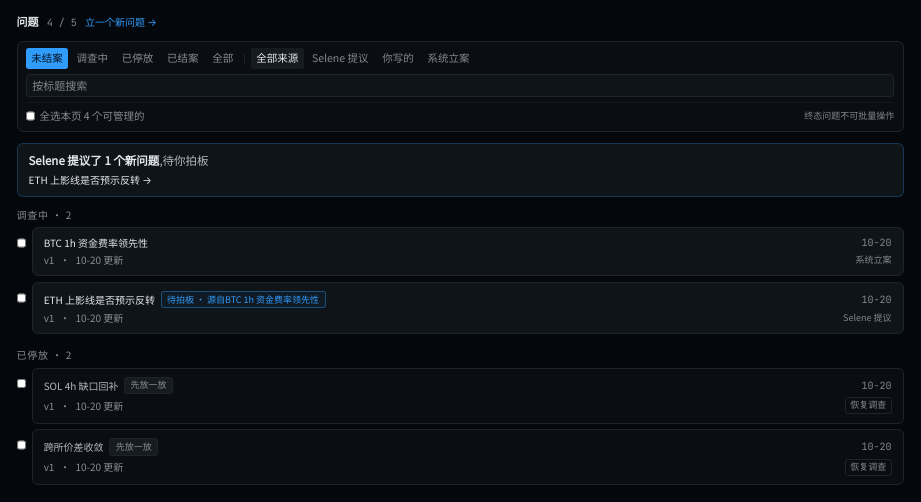
Test: QuestionListView 管理面 › 按状态切到「已结案」只剩终态问题
Expected: the list with test id "open-questions" is shown, [16, 227, 904, 334]
Click the button with test id "status-tab-terminal". click: (183, 58)
box: [162, 48, 204, 69]
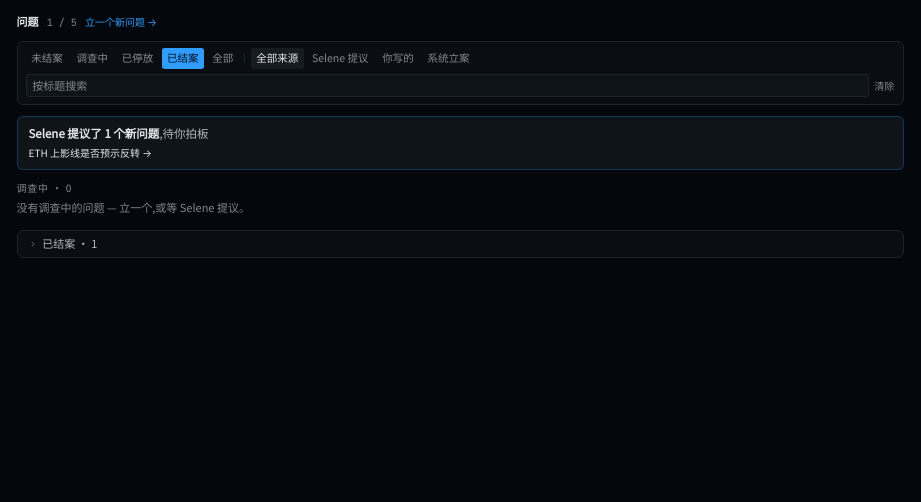
Result: the list with test id "open-questions" is gone
Result: the list with test id "parked-questions" is gone
Result: the button with test id "closed-toggle" shows "1" at [16, 230, 904, 258]
